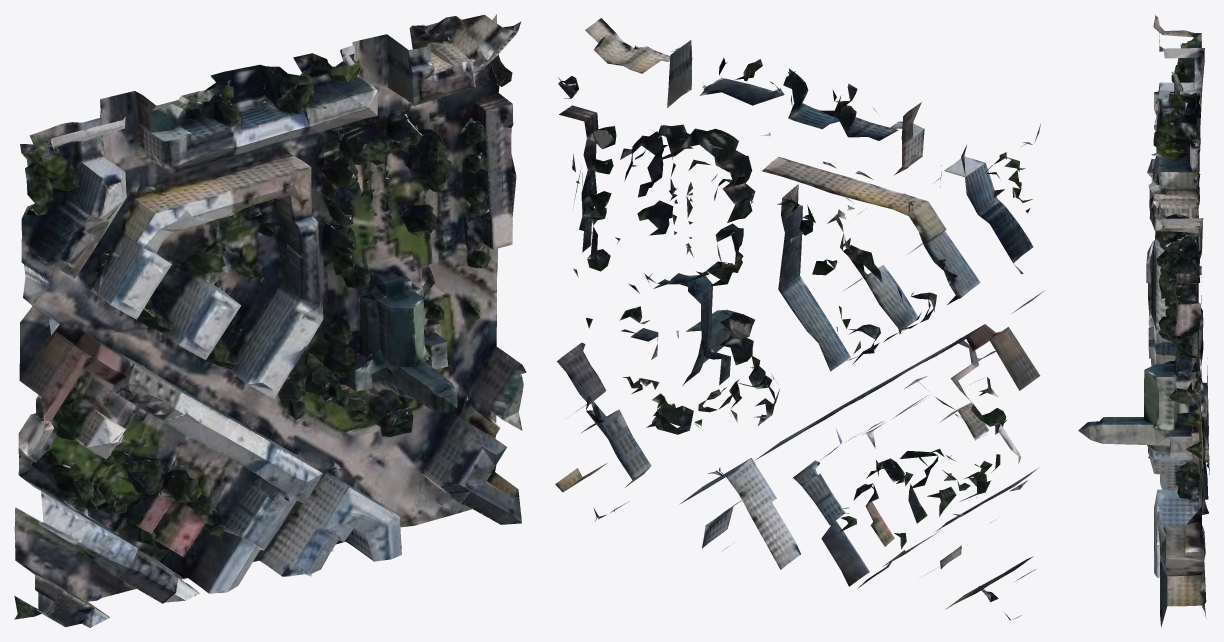
Rendered from Tile_+035_+027_L16_000.glb.
3 renders of one model, left to right at view 1: azimuth 30°, elevation 25°; view 2: azimuth 150°, elevation 25°; view 3: azimuth 270°, elevation 25°, orthographic. The views are drawn at different scales.
Size of the model in its own units: 250 by 250 by 71.35.
Materials: 1 (1 with a texture image).
